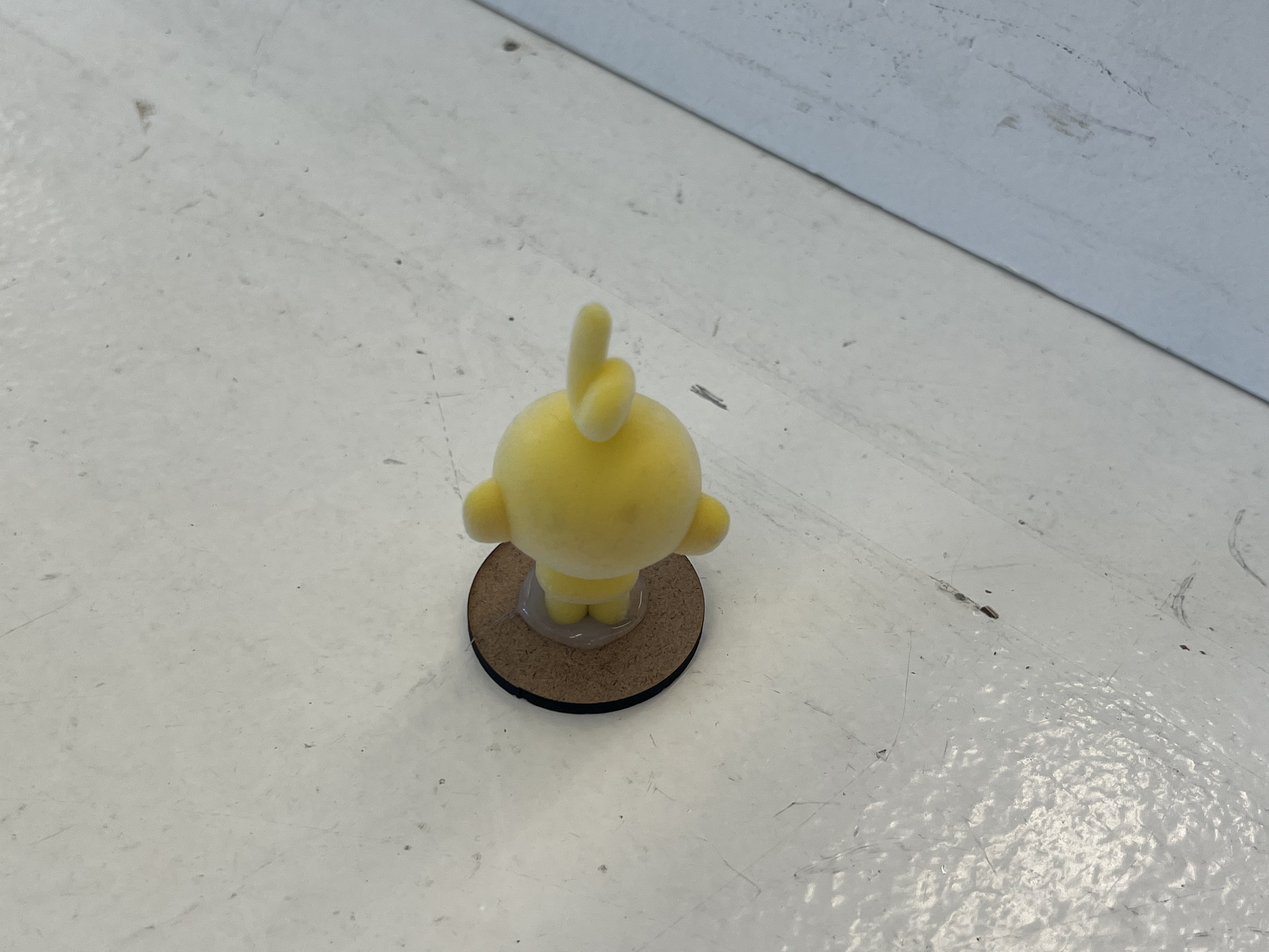teletubby: (463, 304, 729, 625)
